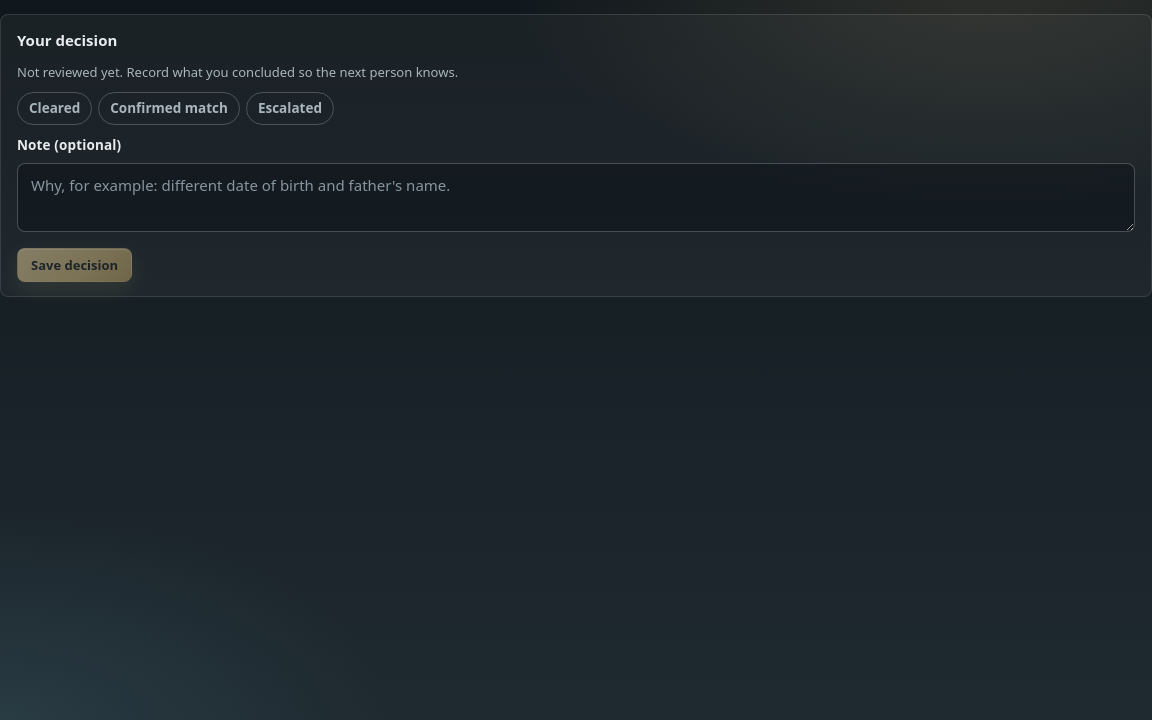
Test: review decision › saves the chosen decision with the note and shows it
This screenshot has width=1152, height=720.
expect the button "Save decision" is disabled: met, box left=17, top=248, right=132, bottom=282
Click the button "Confirmed match": (169, 109) left=98, top=92, right=240, bottom=125
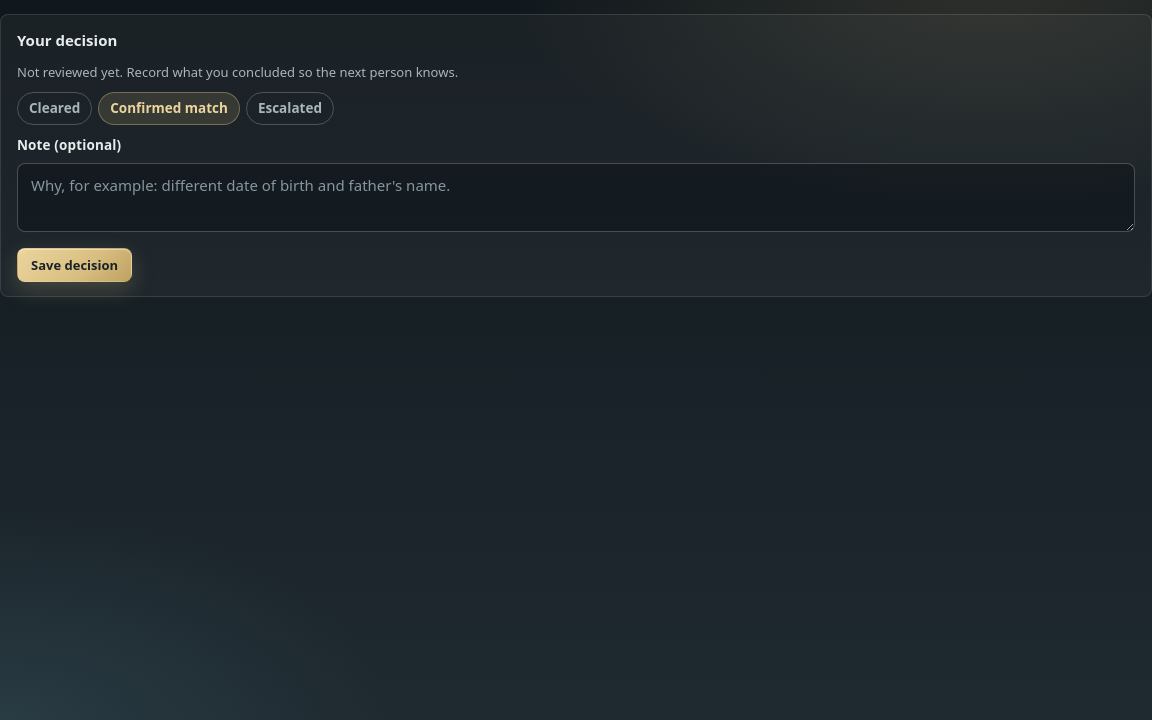
In the text box labelled "Note (optional)": (576, 197) left=17, top=163, right=1135, bottom=232, type "Same DOB"
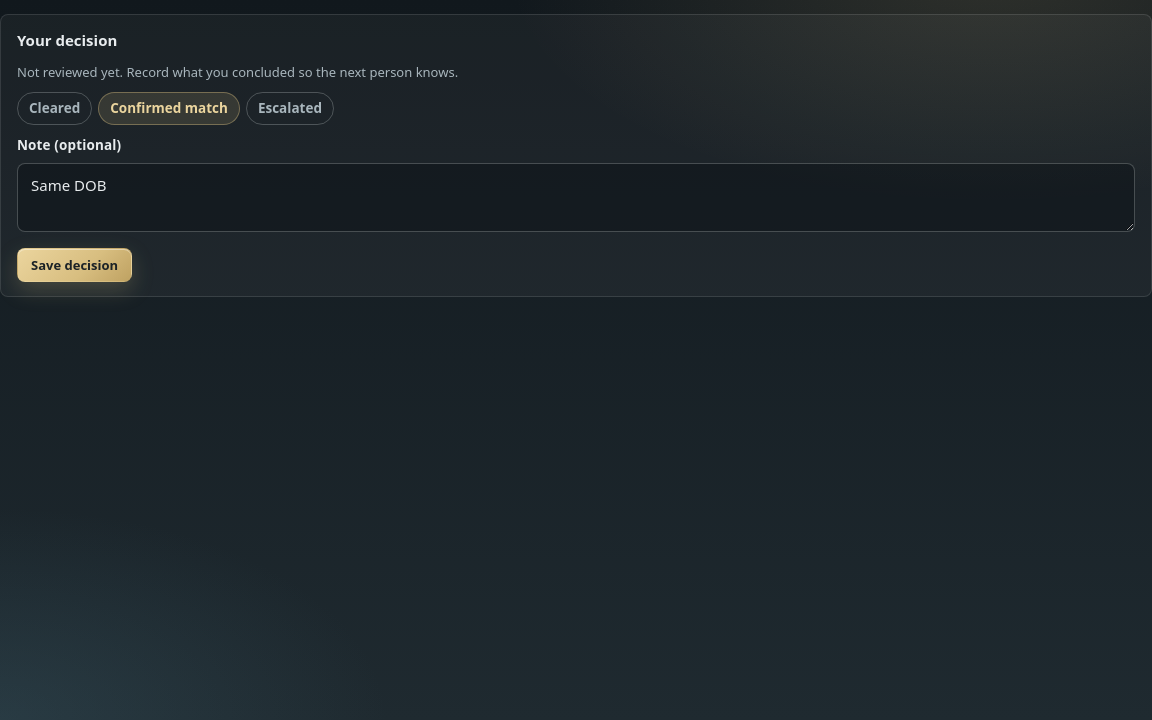
Click the button "Save decision": (75, 265) left=17, top=248, right=132, bottom=282
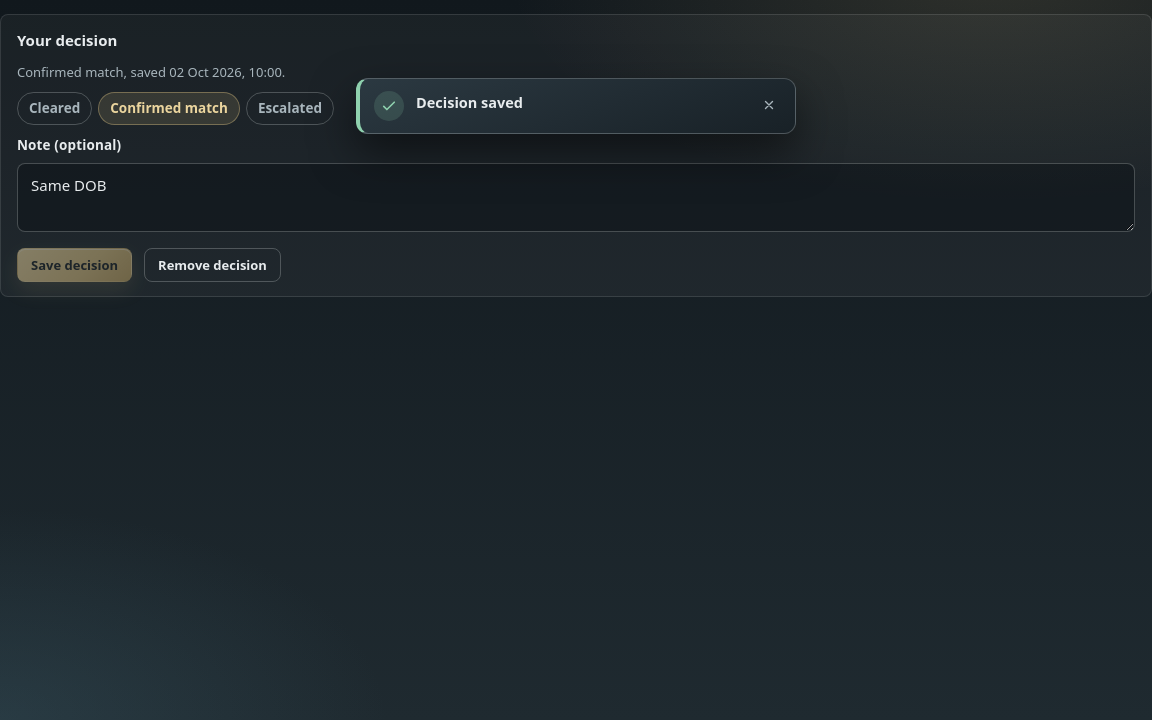
expect the text "Confirmed match, saved 02 Oct 2026, 10:00." is shown: met, box left=17, top=63, right=285, bottom=81
